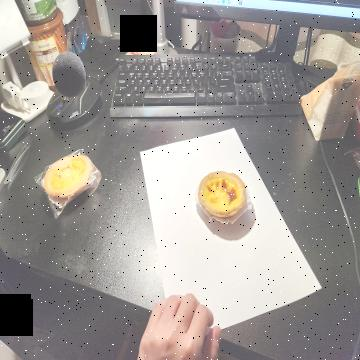EggTart: (198, 170, 247, 218)
